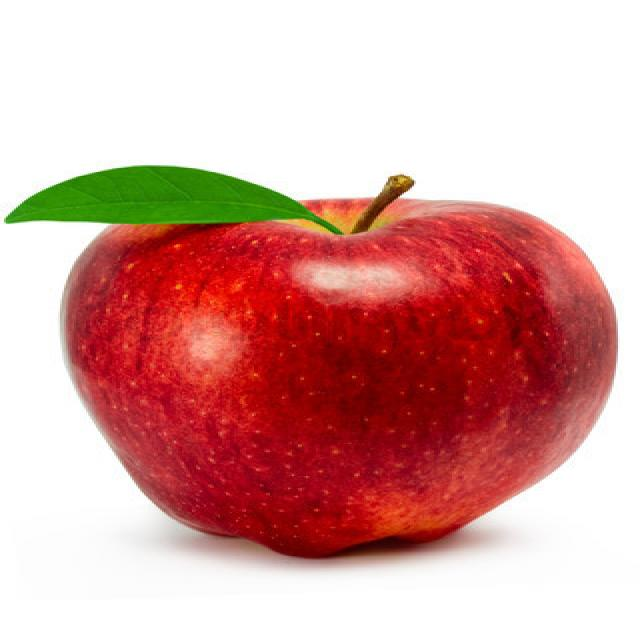Apple: (43, 159, 633, 585)
